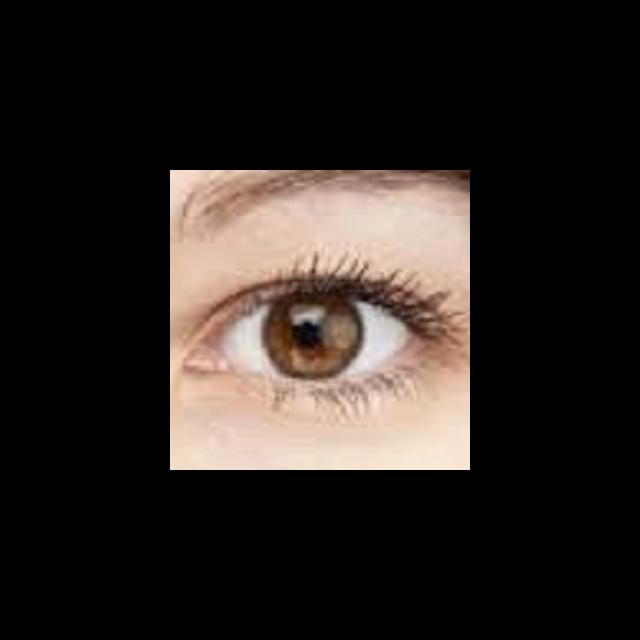eye: (221, 293, 411, 382)
iris: (262, 296, 365, 376)
